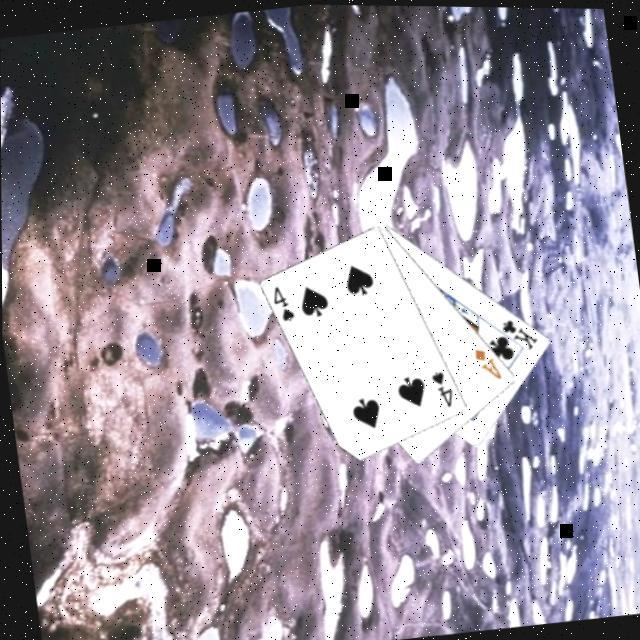4S: (428, 362, 458, 407), (270, 278, 298, 323)
AD: (472, 340, 506, 380)
KC: (491, 309, 543, 354)
